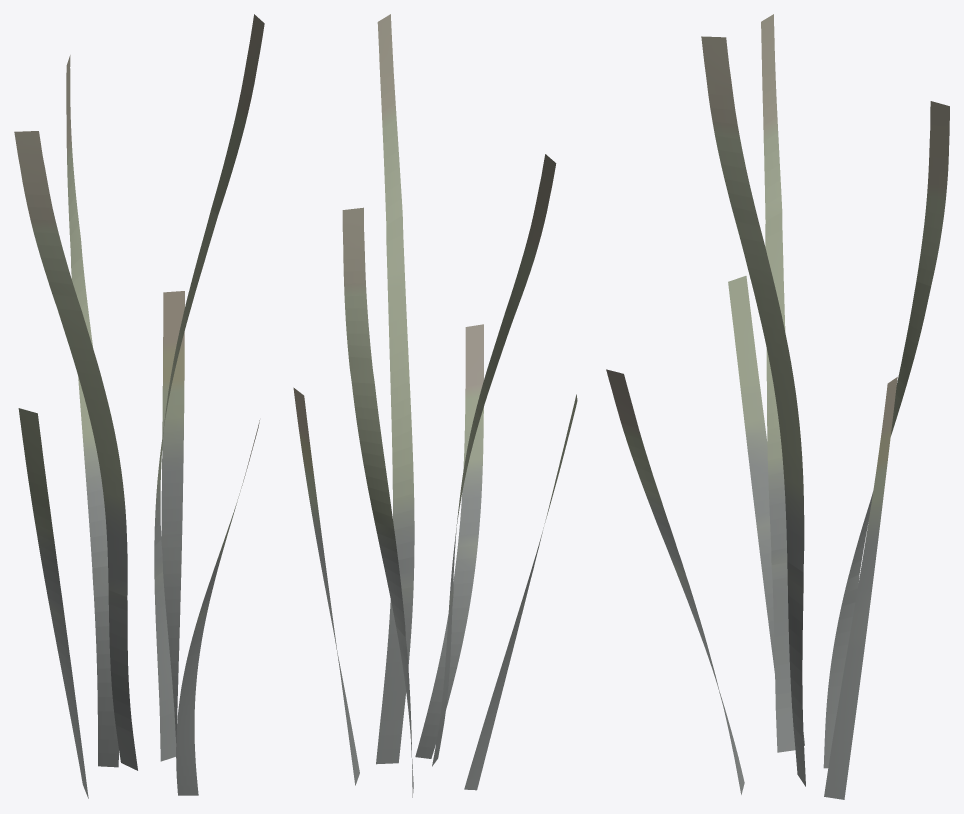
The picture shows the model from 3 angles, left to right: view 1: azimuth 30°, elevation 25°; view 2: azimuth 150°, elevation 25°; view 3: azimuth 270°, elevation 25°; orthographic projection. The views are drawn at different scales.
Parts seen in each view (by area): view 1: G:\FFXIV-MapTools\exports\e3f1\bg\ex2\02_est_e3\fld\e3f1\bgp; view 2: G:\FFXIV-MapTools\exports\e3f1\bg\ex2\02_est_e3\fld\e3f1\bgp; view 3: G:\FFXIV-MapTools\exports\e3f1\bg\ex2\02_est_e3\fld\e3f1\bgp.
Boxes of the visible parts, x1,y1,x2,y2 form: G:\FFXIV-MapTools\exports\e3f1\bg\ex2\02_est_e3\fld\e3f1\bgp: (14, 14, 264, 798); G:\FFXIV-MapTools\exports\e3f1\bg\ex2\02_est_e3\fld\e3f1\bgp: (293, 14, 577, 797); G:\FFXIV-MapTools\exports\e3f1\bg\ex2\02_est_e3\fld\e3f1\bgp: (606, 14, 949, 799).
Bounding box in the file's own units: 9.85 × 30.9 × 12.31.
